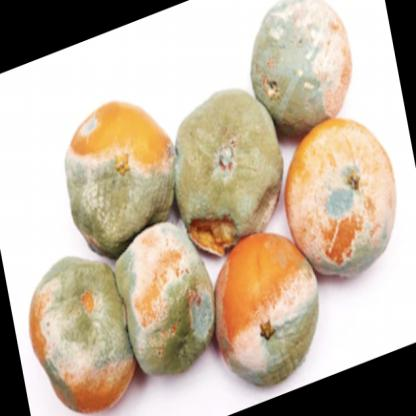rotten_orange: (15, 236, 140, 411), (172, 56, 283, 248), (57, 90, 177, 241), (284, 121, 400, 274), (216, 222, 316, 390), (121, 212, 210, 390)
